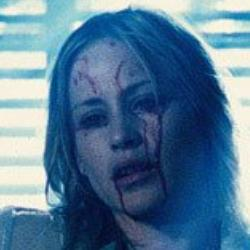face: (34, 4, 244, 231)
